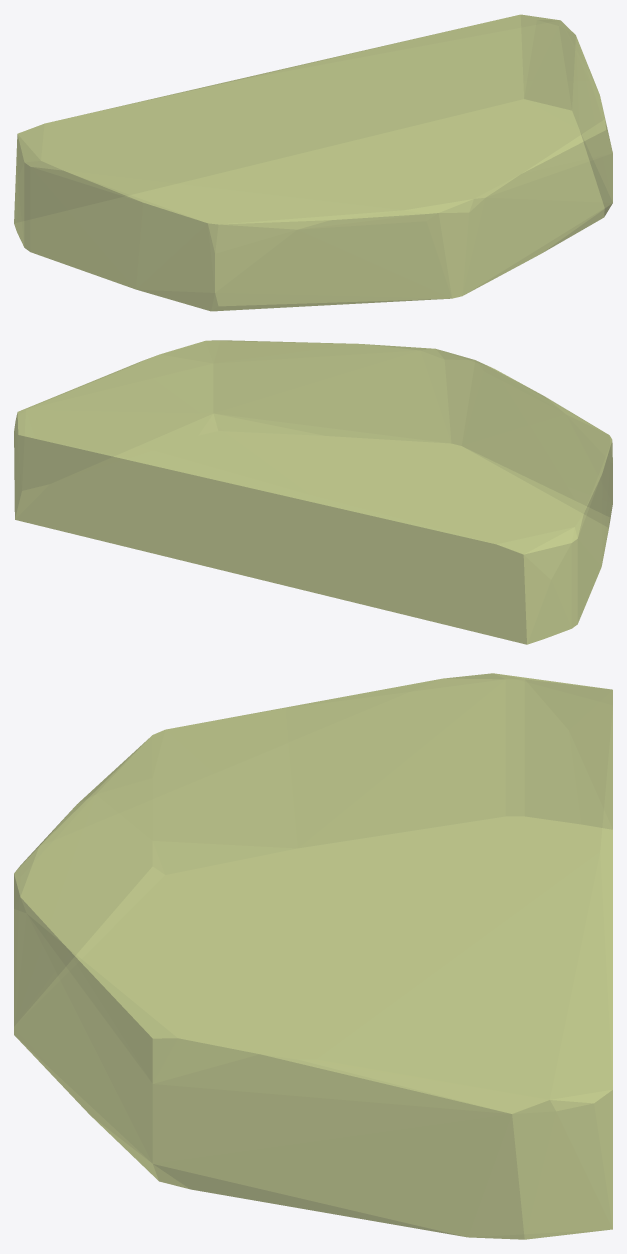
The picture shows the model from 3 angles, top to bottom: view 1: azimuth 30°, elevation 25°; view 2: azimuth 150°, elevation 25°; view 3: azimuth 270°, elevation 25°; orthographic projection. The views are drawn at different scales.
Parts seen in each view (by area): view 1: Shape_IndexedFaceSet.002_Shape_IndexedFaceSet.6899; view 2: Shape_IndexedFaceSet.002_Shape_IndexedFaceSet.6899; view 3: Shape_IndexedFaceSet.002_Shape_IndexedFaceSet.6899.
Boxes of the visible parts, left/top/right/bottom form: Shape_IndexedFaceSet.002_Shape_IndexedFaceSet.6899: left=14, top=14, right=612, bottom=311; Shape_IndexedFaceSet.002_Shape_IndexedFaceSet.6899: left=14, top=340, right=612, bottom=644; Shape_IndexedFaceSet.002_Shape_IndexedFaceSet.6899: left=14, top=673, right=612, bottom=1239.
Size of the model in its own units: 0.0612 by 0.00989 by 0.0361.
